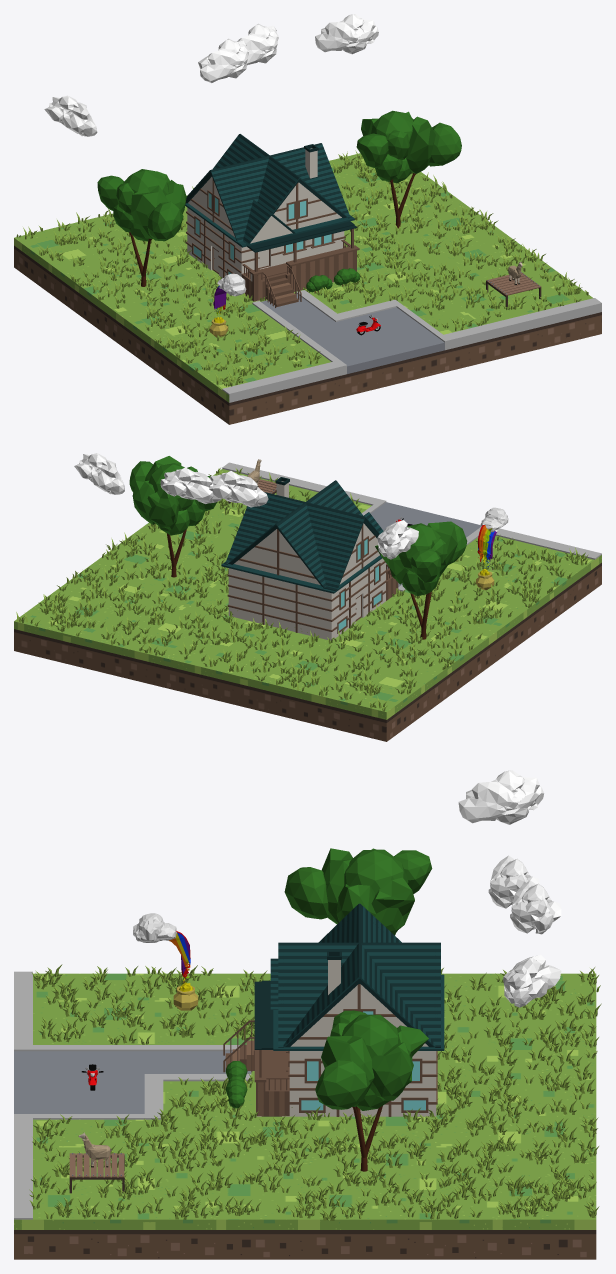
3 renders of one model, top to bottom at view 1: azimuth 30°, elevation 25°; view 2: azimuth 150°, elevation 25°; view 3: azimuth 270°, elevation 25°, orthographic. The views are drawn at different scales.
Parts seen in each view (by area): view 1: Cube.006, Cube.793, Circle.012_Grass_0.192, Cube.007, tree, tree.001, OBJRANDOM_RAINBOW, Cube.009; view 2: Cube.006, Cube.793, Circle.012_Grass_0.192, Cube.007, tree.001, tree, OBJRANDOM_RAINBOW; view 3: Cube.006, Circle.012_Grass_0.192, Cube.793, tree, Cube.007, tree.001, OBJRANDOM_RAINBOW, Cube.009.
Boxes of the visible parts, x1,y1,x2,y2 form: Cube.006: [14, 153, 601, 424]; Cube.793: [185, 134, 359, 307]; Circle.012_Grass_0.192: [16, 150, 588, 386]; Cube.007: [44, 14, 378, 136]; tree: [356, 110, 461, 228]; tree.001: [97, 169, 186, 286]; OBJRANDOM_RAINBOW: [209, 273, 246, 337]; Cube.009: [486, 272, 541, 306]; Cube.006: [14, 462, 601, 741]; Cube.793: [221, 477, 398, 640]; Circle.012_Grass_0.192: [16, 468, 588, 711]; Cube.007: [74, 453, 418, 559]; tree.001: [375, 521, 467, 639]; tree: [129, 456, 216, 577]; OBJRANDOM_RAINBOW: [475, 507, 508, 590]; Cube.006: [14, 971, 596, 1259]; Circle.012_Grass_0.192: [29, 964, 601, 1220]; Cube.793: [223, 903, 444, 1116]; tree: [315, 1010, 428, 1171]; Cube.007: [458, 770, 561, 1007]; tree.001: [284, 848, 432, 935]; OBJRANDOM_RAINBOW: [133, 913, 198, 1010]; Cube.009: [69, 1153, 124, 1193].
Bounding box in the file's own units: 4071 × 2192 × 4040.
34 materials, 4 textured.
